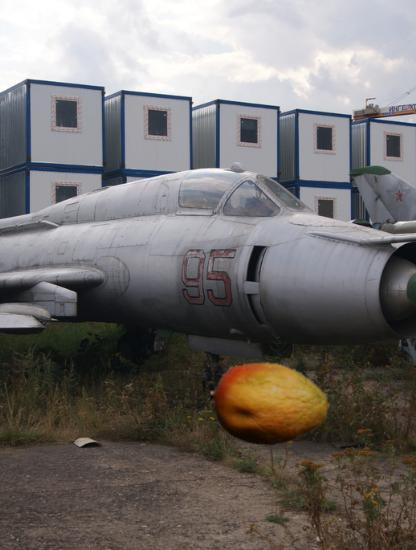Papaya: (211, 344, 331, 464)
